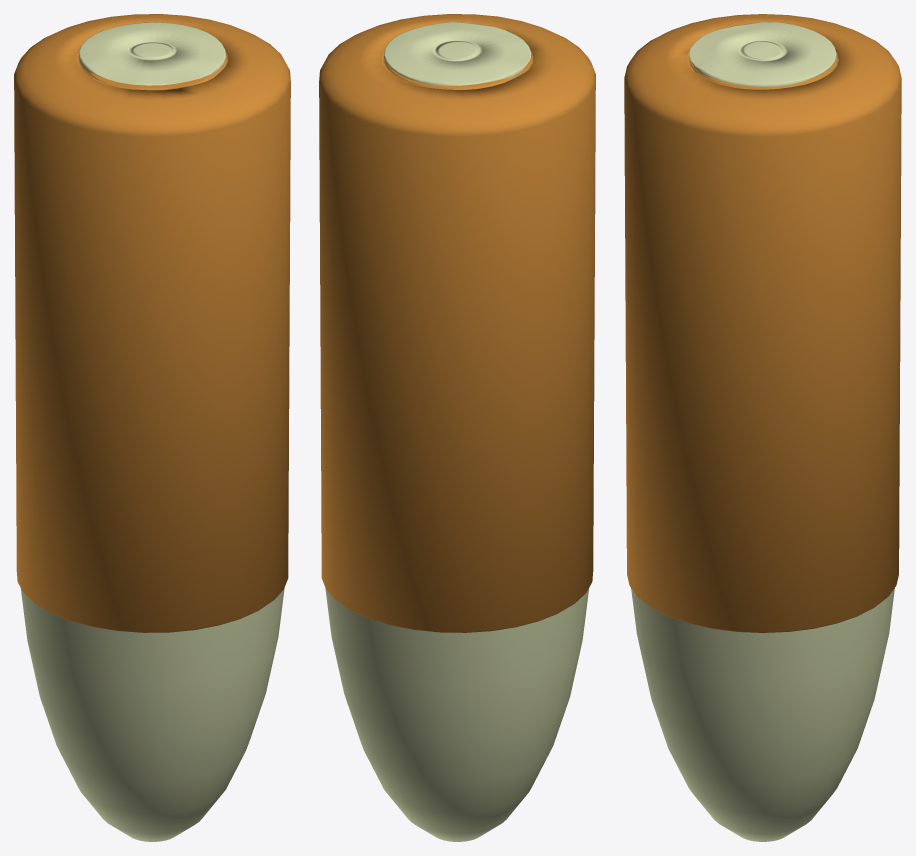
Rendered from DefaultBullet.obj.
3 views of the same model, side by side, from view 1: azimuth 30°, elevation 25°; view 2: azimuth 150°, elevation 25°; view 3: azimuth 270°, elevation 25° (orthographic).
Visible parts, largest first — view 1: Sphere.002, Sphere.001, Sphere.003; view 2: Sphere.002, Sphere.001, Sphere.003; view 3: Sphere.002, Sphere.001, Sphere.003.
Boxes of the visible parts, x1,y1,x2,y2 form: Sphere.002: (14, 14, 290, 632); Sphere.001: (20, 588, 284, 841); Sphere.003: (78, 22, 225, 85); Sphere.002: (319, 14, 595, 632); Sphere.001: (325, 588, 589, 841); Sphere.003: (384, 22, 531, 86); Sphere.002: (624, 14, 901, 632); Sphere.001: (631, 588, 894, 841); Sphere.003: (689, 22, 836, 87).
Size of the model in its own units: 3.95 by 12.38 by 3.95.
